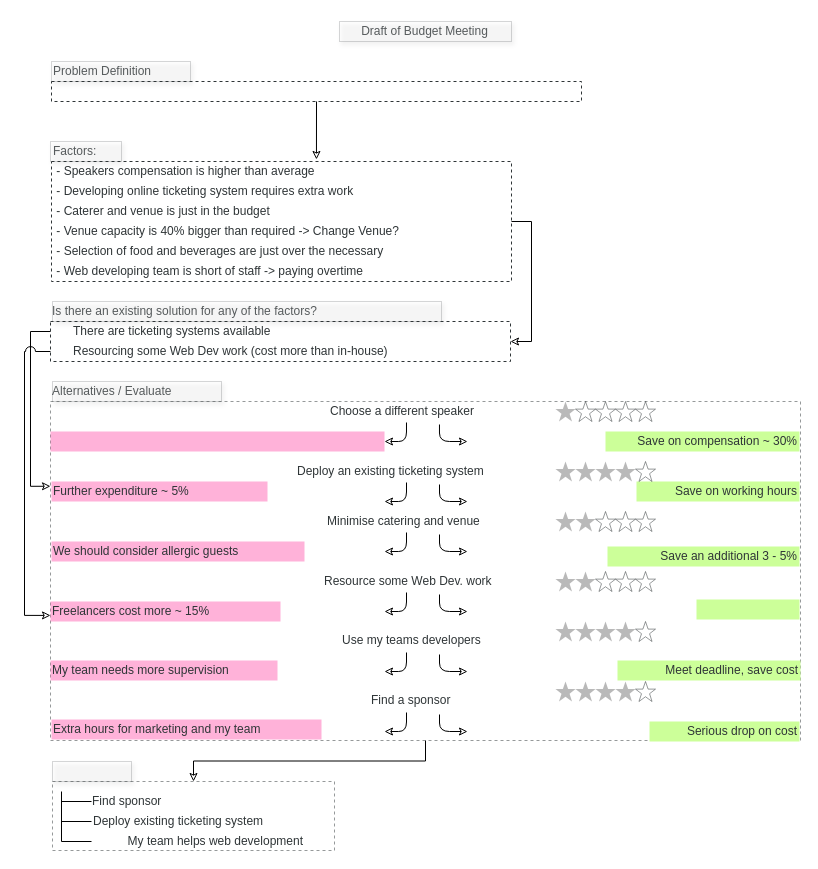
This 818x869 diagram has some shape labels left out. The shapes that lost their labels are listed below. From the top down, each one's centre as x and y in pixels, then its label:
At point 316,91: "The overall cost of the seminar is expected to be over 15% of the budget.".
At point 217,441: "The speaker brings the most value to the event".
At point 747,609: "Meet deadline".
At point 93,772: "Selection".
